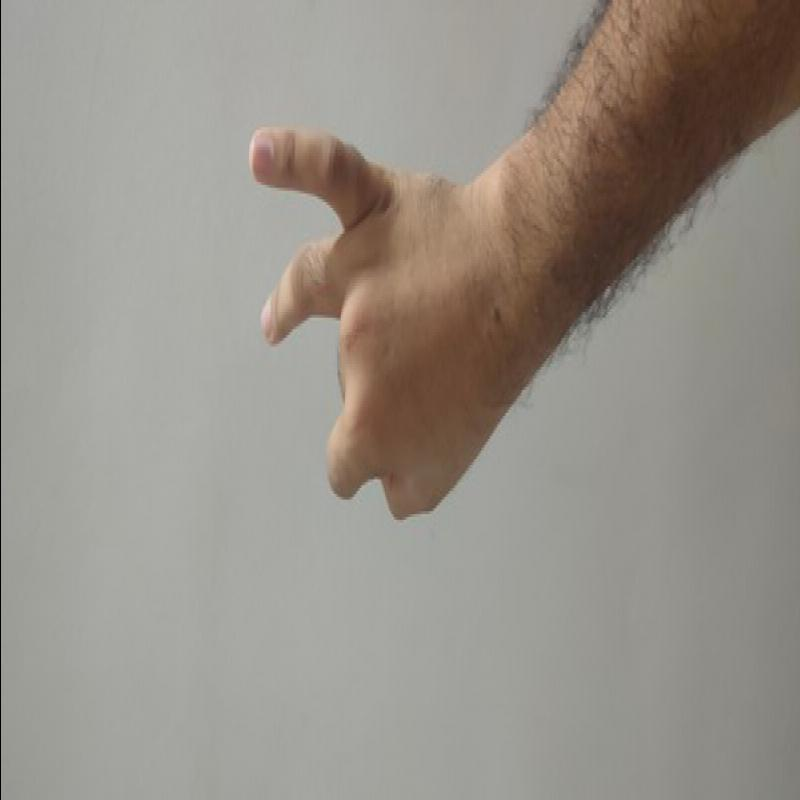Katakam: (238, 115, 521, 553)
